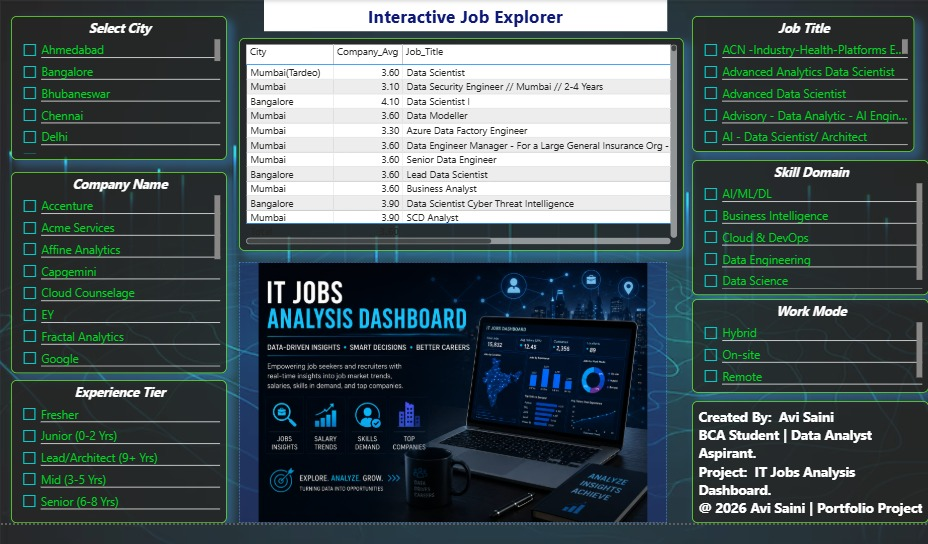

The page's visual inventory and layout, read from the dashboard file:
{"tool":"powerbi","page":{"name":"Page 5","canvas":[1280,720],"ordinal":4},"visuals":[{"type":"textbox","box":[364.7,0,554.7,42.7],"z":0},{"type":"slicer","title":"Select City","fields":{"Values":["indian_tech_jobs_2026.primary_city"]},"box":[16.5,22,297.3,198.2],"z":1000},{"type":"slicer","title":"Company Name","fields":{"Values":["indian_tech_jobs_2026.company_name"]},"box":[16.5,236.7,297.3,276.6],"z":2000},{"type":"slicer","title":"Experience Tier","fields":{"Values":["indian_tech_jobs_2026.experience_tier"]},"box":[16.5,523,297.3,196.8],"z":3000},{"type":"slicer","title":"Job Title","fields":{"Values":["indian_tech_jobs_2026.job_title"]},"box":[953.8,22,305.5,187.2],"z":4000},{"type":"slicer","title":"Skill Domain","fields":{"Values":["indian_tech_jobs_2026.skill_domain"]},"box":[953.8,220.2,326.2,185.8],"z":5000},{"type":"slicer","title":"Work Mode","fields":{"Values":["indian_tech_jobs_2026.work_mode"]},"box":[953.8,411.5,326.2,129.4],"z":6000},{"type":"tableEx","fields":{"Values":["indian_tech_jobs_2026.primary_city","Avg(indian_tech_jobs_2026.company_rating)","indian_tech_jobs_2026.job_title","indian_tech_jobs_2026.company_name"]},"box":[330.3,52.3,612.5,293.2],"z":7000},{"type":"image","box":[330.3,360.6,589.1,359.2],"z":8000},{"type":"textbox","box":[953.8,551.9,326.2,167.9],"z":9000}]}

Visuals, with their boxes on the page's 1280x720 design canvas (x1, y1, x2, y2). These are canvas units, not pixel positions in the 928x544 screenshot, which may show the page scaled, cropped or inside an application window:
textbox: (x1=365, y1=0, x2=919, y2=43)
"Select City" slicer: (x1=16, y1=22, x2=314, y2=220)
"Company Name" slicer: (x1=16, y1=237, x2=314, y2=513)
"Experience Tier" slicer: (x1=16, y1=523, x2=314, y2=720)
"Job Title" slicer: (x1=954, y1=22, x2=1259, y2=209)
"Skill Domain" slicer: (x1=954, y1=220, x2=1280, y2=406)
"Work Mode" slicer: (x1=954, y1=412, x2=1280, y2=541)
tableEx - indian_tech_jobs_2026.primary_city x Avg(indian_tech_jobs_2026.company_rating): (x1=330, y1=52, x2=943, y2=346)
image: (x1=330, y1=361, x2=919, y2=720)
textbox: (x1=954, y1=552, x2=1280, y2=720)
